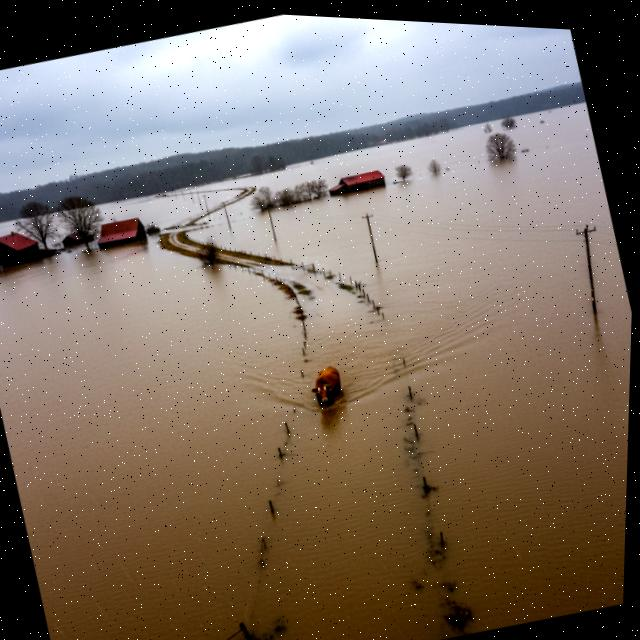cow: (295, 346, 354, 422)
